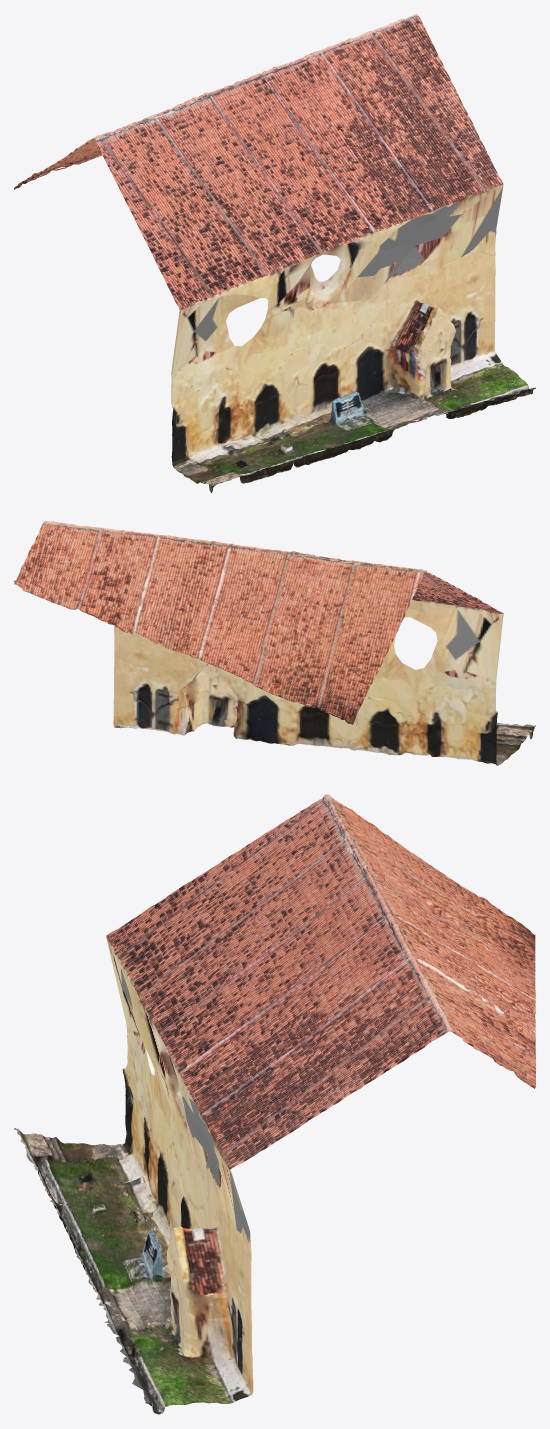
The picture shows the model from 3 angles, top to bottom: view 1: azimuth 30°, elevation 25°; view 2: azimuth 150°, elevation 25°; view 3: azimuth 270°, elevation 25°; orthographic projection. The views are drawn at different scales.
Visible parts, largest first — view 1: node_28; view 2: node_28; view 3: node_28.
Boxes of the visible parts, box(x1,y1,x2,y2) form: node_28: box(14, 14, 535, 492); node_28: box(14, 521, 535, 765); node_28: box(14, 794, 535, 1414).
Size of the model in its own units: 23.21 by 17.98 by 21.87.
1 material, 1 textured.
